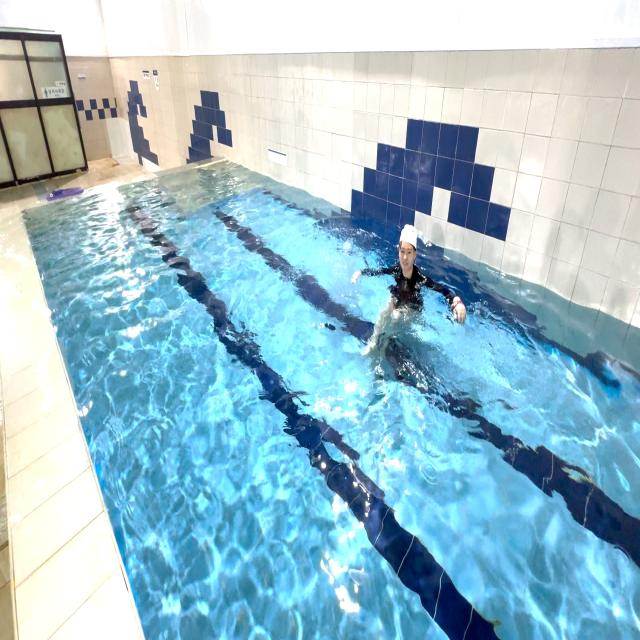Swimming: (352, 222, 466, 382)
